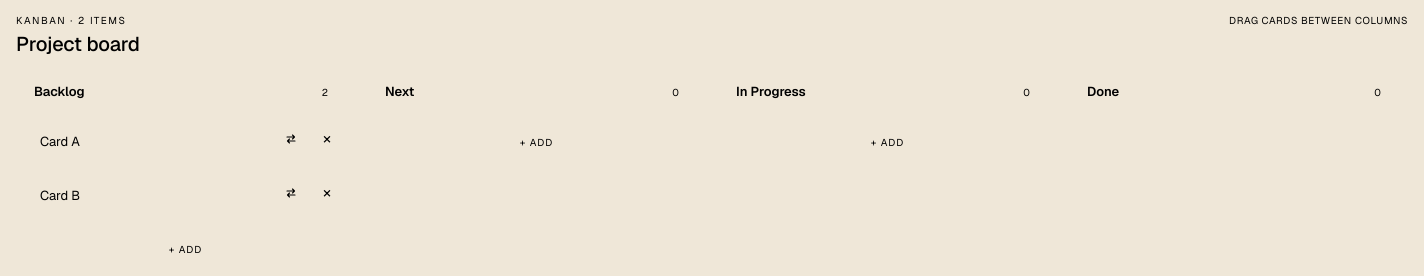
Kanban delete has an undo window › Undo inside the window sends nothing and puts the card back
The width and height of the screenshot is (1424, 276).
Click the button named "Delete Card A". click: (327, 139)
box: [315,127,339,151]
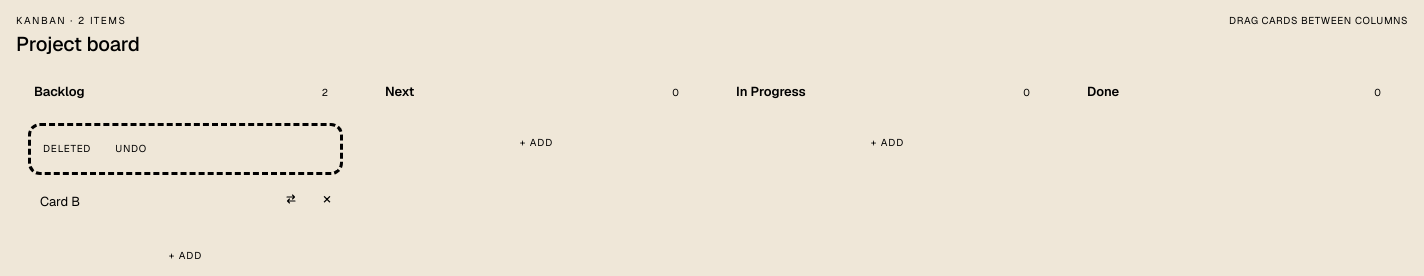
Click the button with aria-label "Undo deleting Card A". click: (131, 149)
box: [101,134,161,163]
Wait 10000 ms
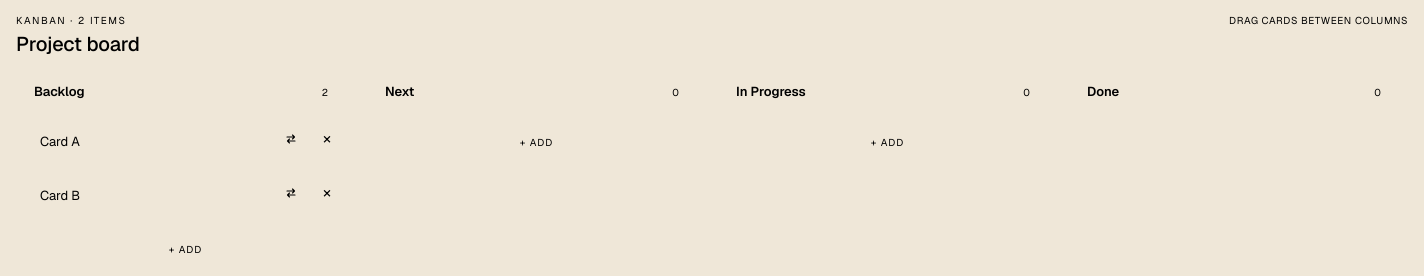
expect the button named "Delete Card A" is shown: met, box [315,127,339,151]
